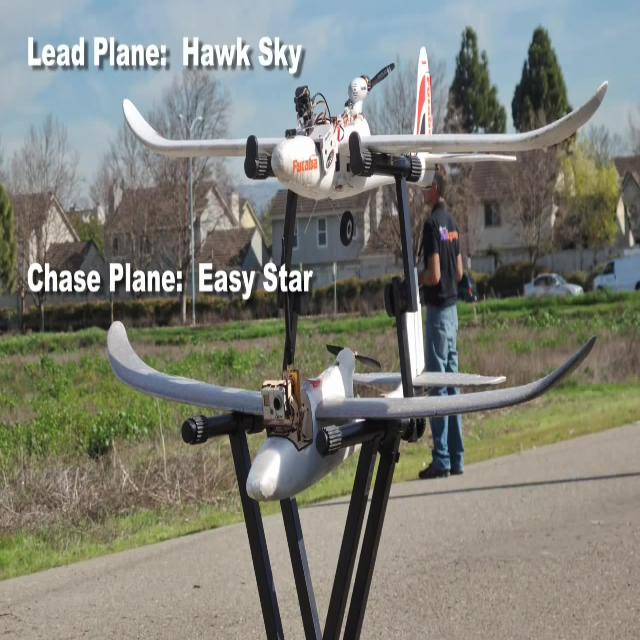iha: (121, 42, 609, 249), (105, 315, 600, 503)
